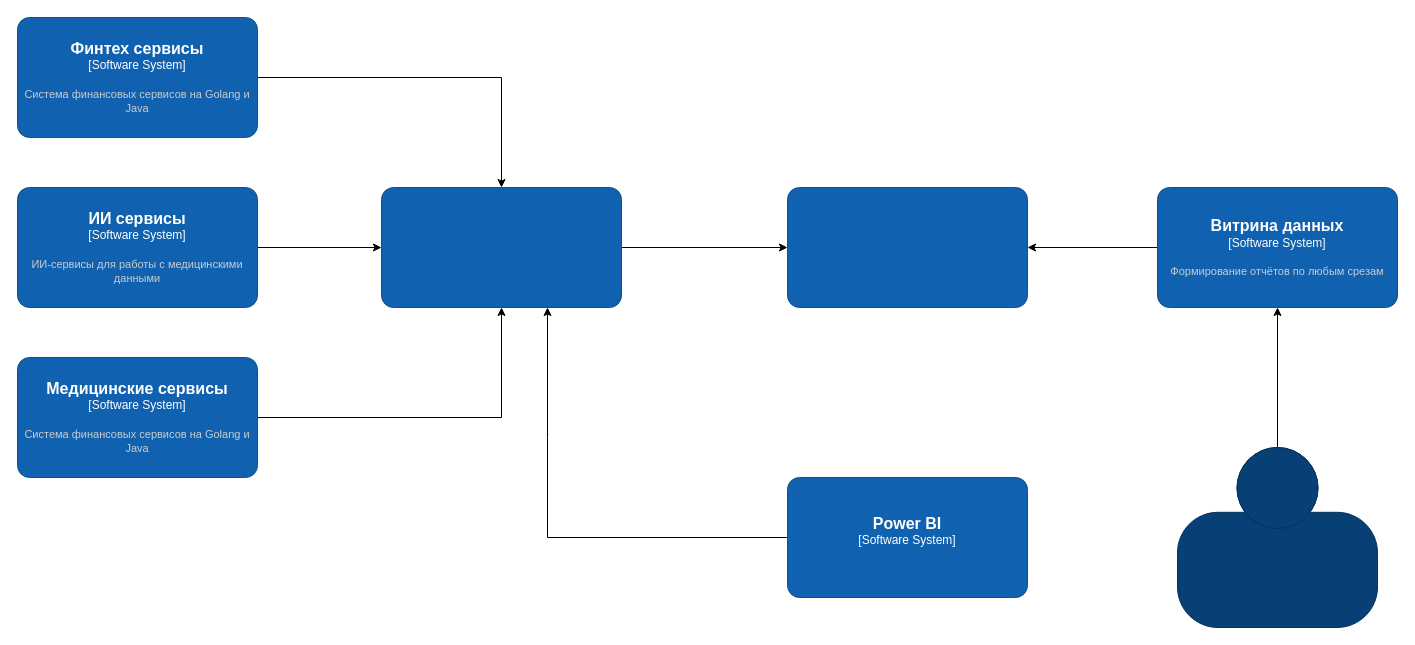
Some shapes in this 1415 by 645 pixel diagram are drawn without their labels. The shapes that lost their labels are listed below. From the top down, each one's centre as x and y in pixels, then its label:
At (501,247): "Data Lakehouse [Software System]".
At (907,247): "Сервис метаданных [Software System]".
At (1277,537): "Сотрудник [Person]".
